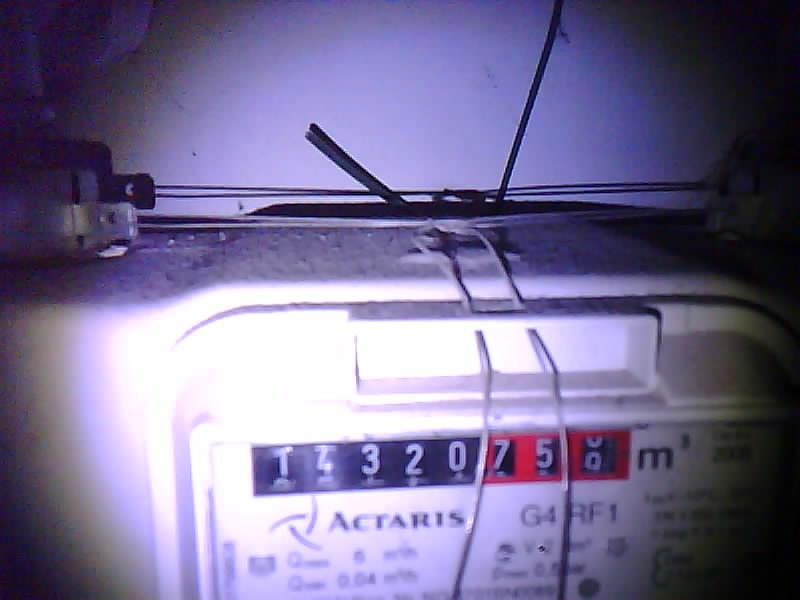nums: (249, 429, 634, 496)
